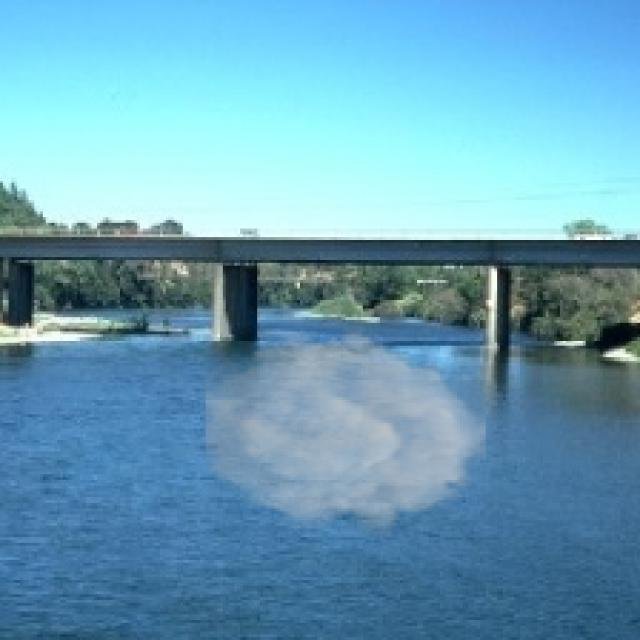Smoke: (205, 322, 486, 538)
